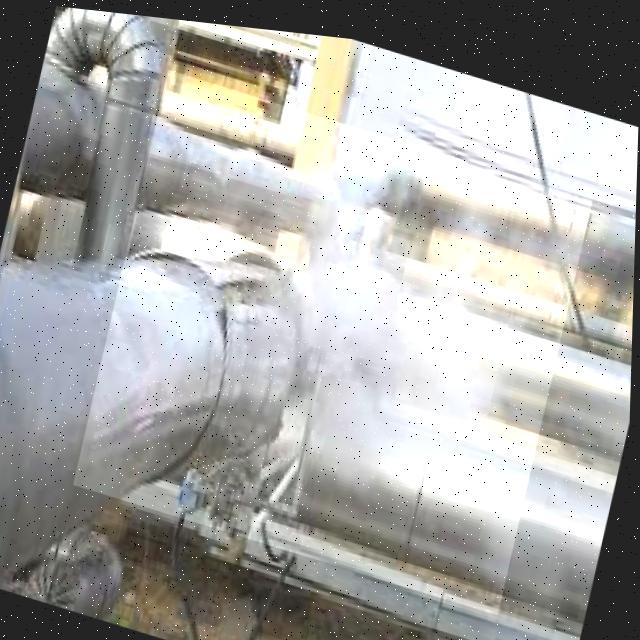corrosion: (165, 143, 402, 462)
